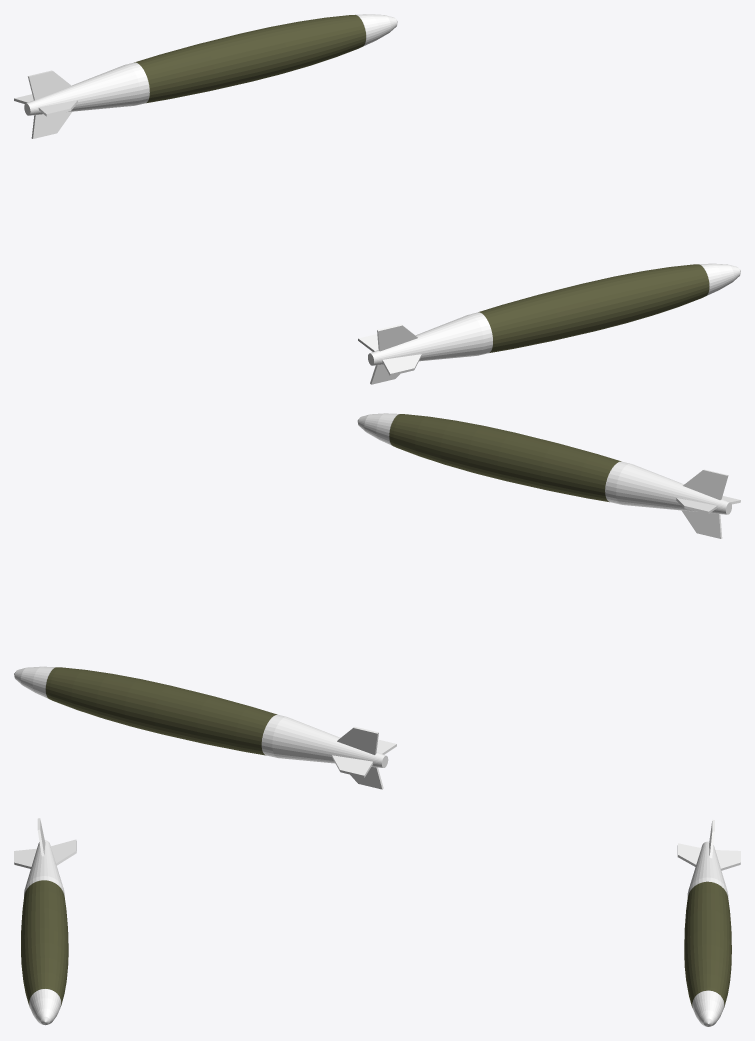
Rendered from f15egbu3858.glb.
3 renders of one model, top to bottom at view 1: azimuth 30°, elevation 25°; view 2: azimuth 150°, elevation 25°; view 3: azimuth 270°, elevation 25°, orthographic. The views are drawn at different scales.
Parts seen in each view (by area): view 1: 円柱.011, 円柱.014; view 2: 円柱.014, 円柱.011; view 3: 円柱.011, 円柱.014.
Part boxes in pixels (x1,y1,x2,y2): 円柱.011: [14, 14, 397, 138]; 円柱.014: [358, 263, 740, 384]; 円柱.014: [357, 413, 740, 538]; 円柱.011: [14, 666, 396, 789]; 円柱.011: [677, 819, 740, 1026]; 円柱.014: [14, 818, 76, 1025].
Bounding box in the file's own units: 2.42 × 0.3808 × 4.25.
3 materials, 1 textured.
